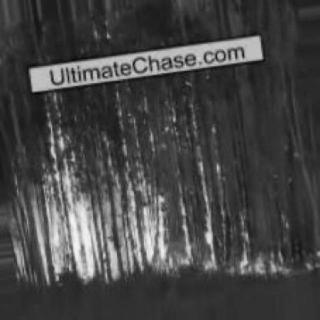Fire: (6, 100, 298, 283)
